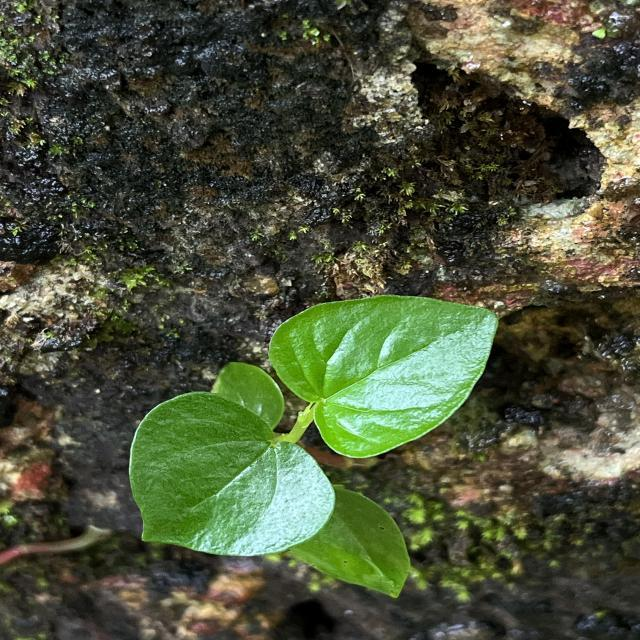Peperomia pellucida: (267, 294, 502, 461), (126, 391, 338, 558)
